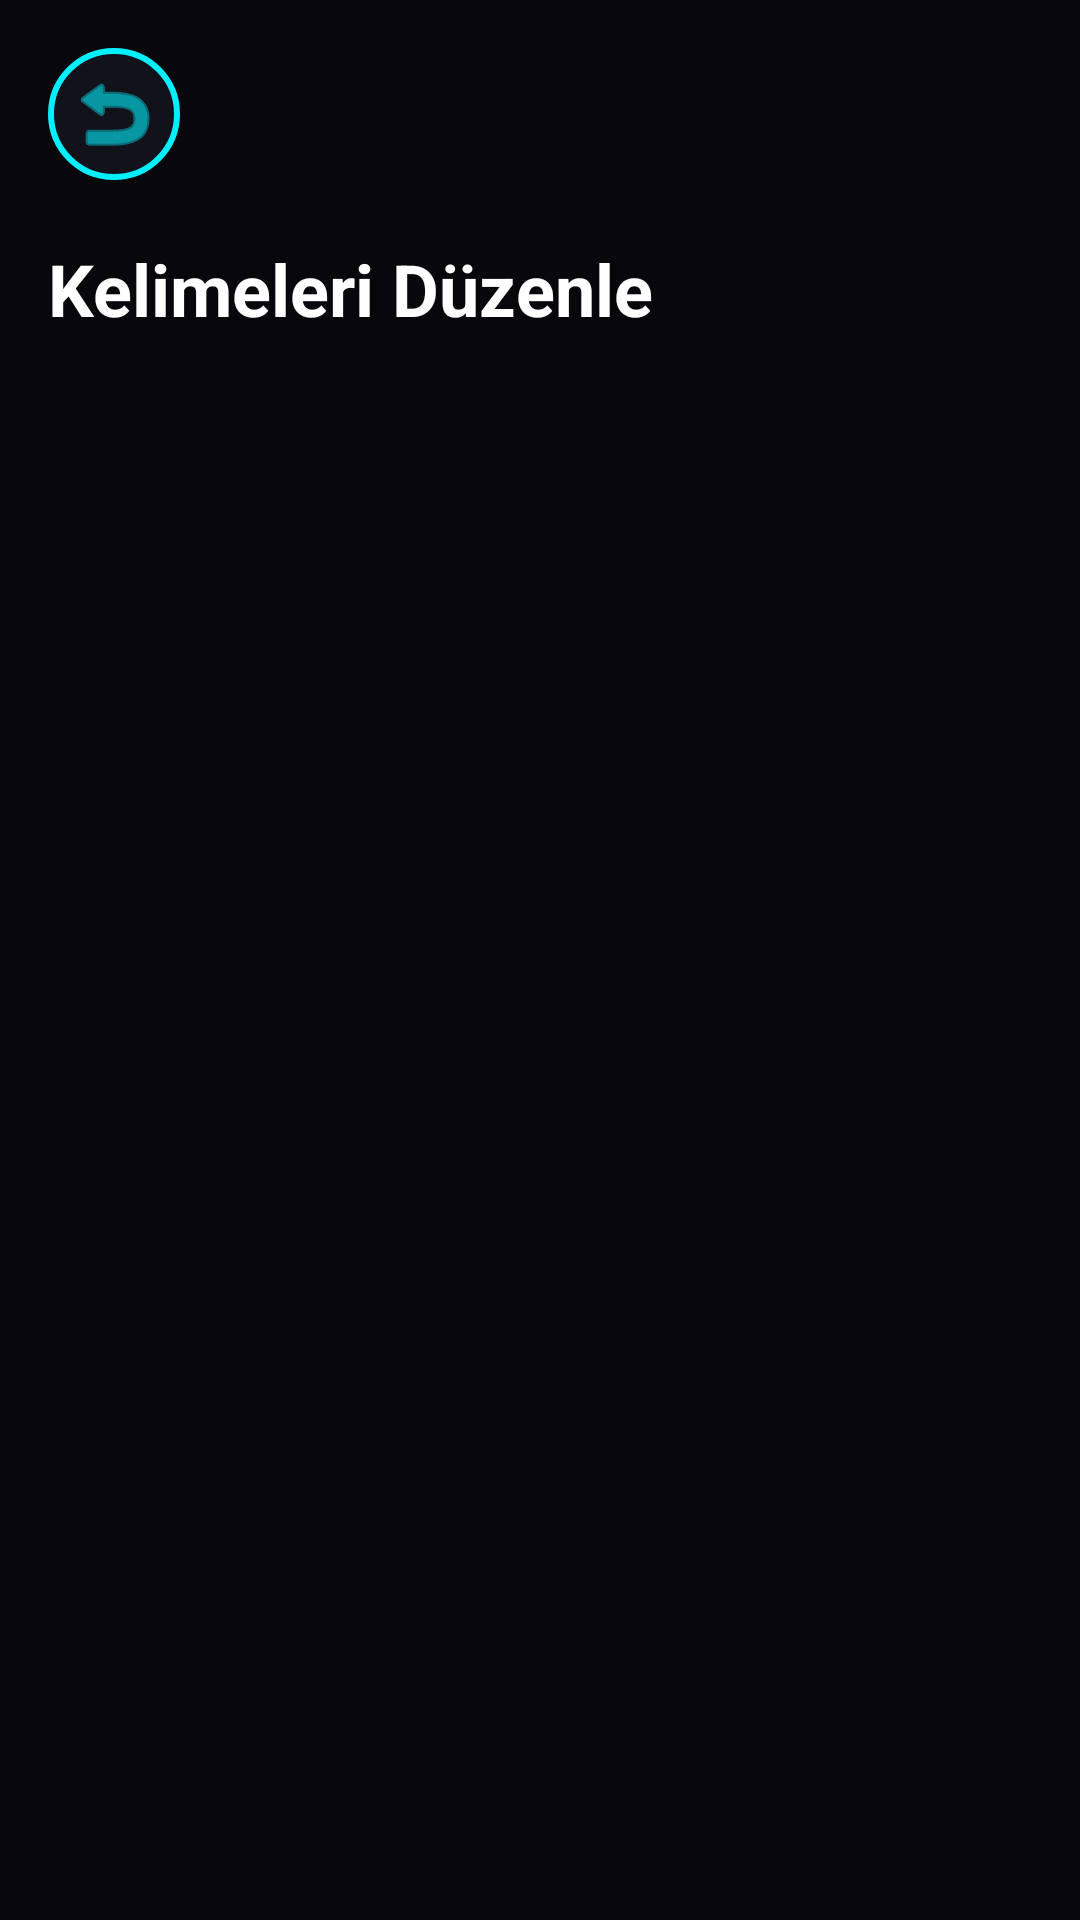

Icons on this 1080*1920 Android screen, each with its box as (x1, y1, x2, y2):
Geri Dön: (48, 48, 180, 180)
